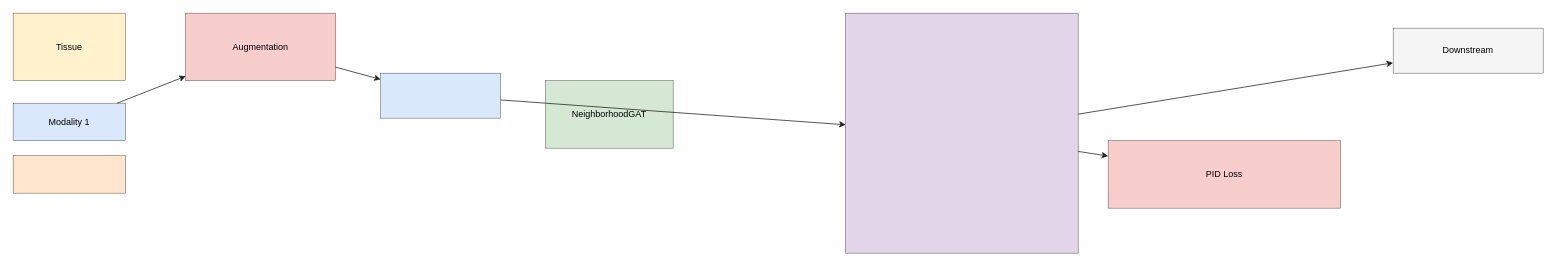
This 1556x266 diagram has some shape labels left out. Each missing label, with the centre of its shape:
Encoders: point (440, 95)
Fusion Transformer: point (961, 133)
Modality 2: point (69, 174)
